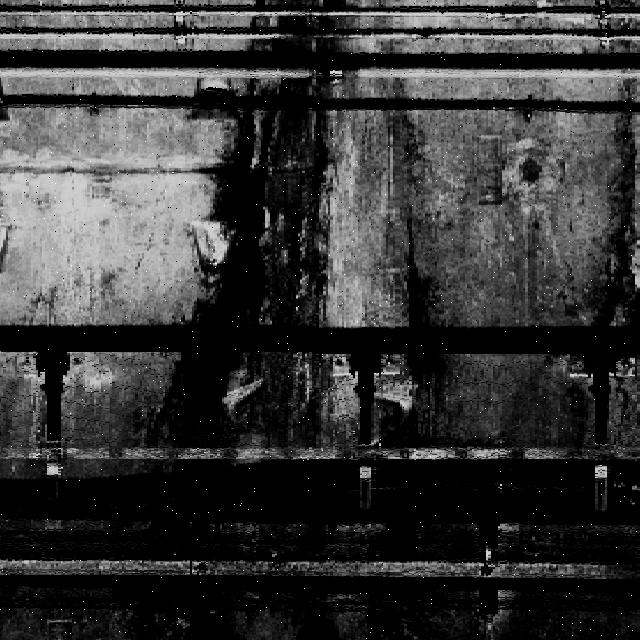leakage: (131, 0, 478, 459), (122, 521, 443, 639)
